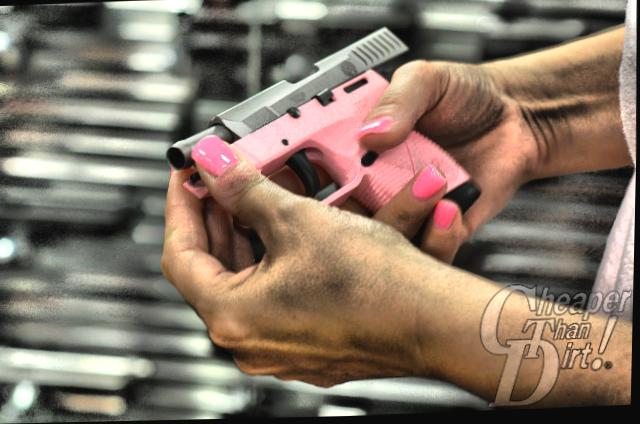pistol: (159, 16, 490, 250)
